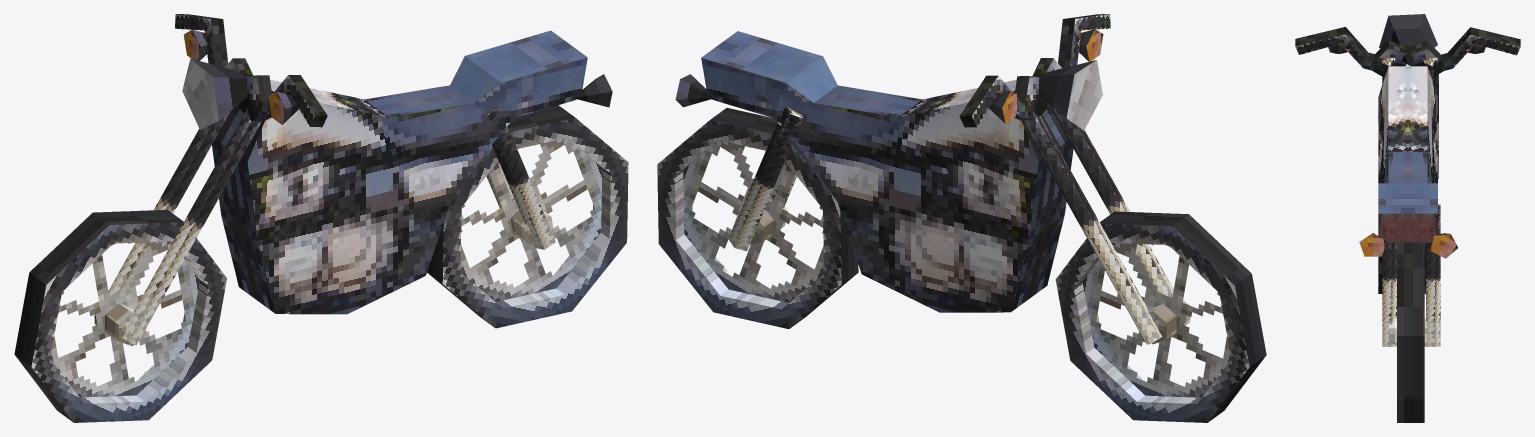
Rendered from kawasaki_spectre_psx.glb.
3 views of the same model, side by side, from view 1: azimuth 30°, elevation 25°; view 2: azimuth 150°, elevation 25°; view 3: azimuth 270°, elevation 25° (orthographic). The views are drawn at different scales.
Visible parts, largest first — view 1: Cylinder.002; view 2: Cylinder.002; view 3: Cylinder.002.
Boxes of the visible parts, x1,y1,x2,y2 form: Cylinder.002: (14,14,628,422); Cylinder.002: (657,14,1266,422); Cylinder.002: (1295,14,1520,422).
Size of the model in its own units: 10.07 by 5.52 by 4.08.
Materials: 2 (2 with a texture image).
